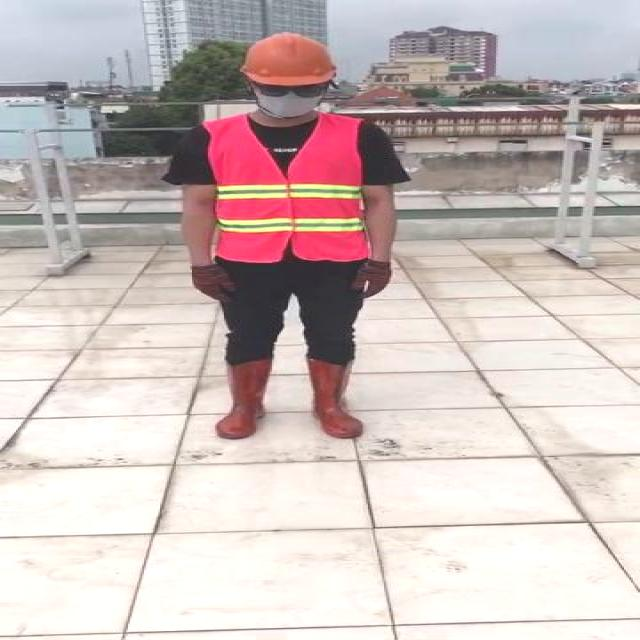boots: (306, 358, 366, 440), (217, 359, 274, 440)
face_mask: (256, 78, 324, 116)
glasses: (253, 80, 330, 100)
hand_glove: (190, 265, 237, 303), (349, 264, 391, 301)
head_helmet: (244, 30, 337, 85)
person: (170, 30, 397, 439)
vest: (204, 114, 368, 261)
